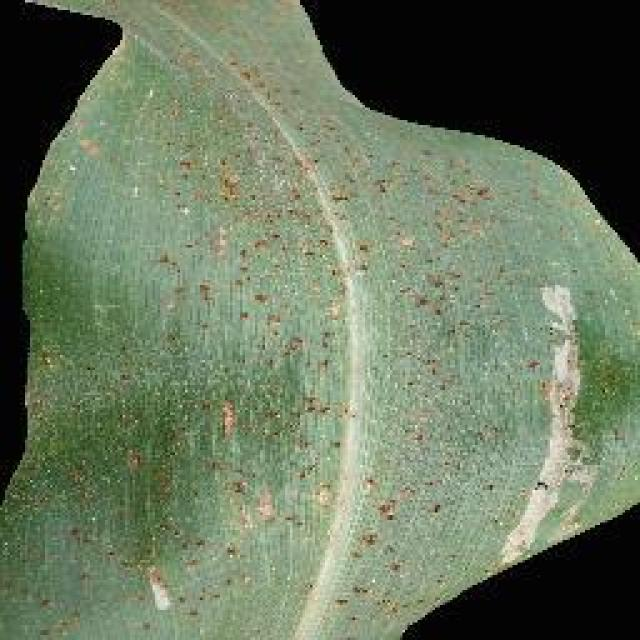Corn Common Rust: (65, 41, 621, 640)
